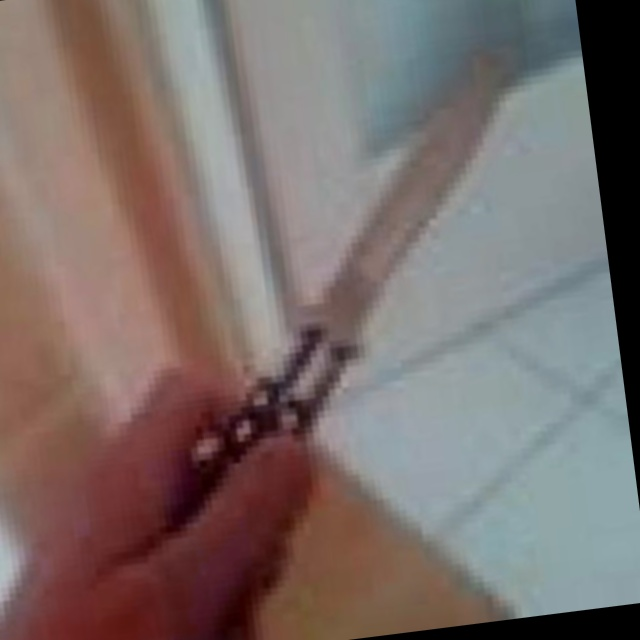Sharp-Object: (111, 51, 563, 539)
